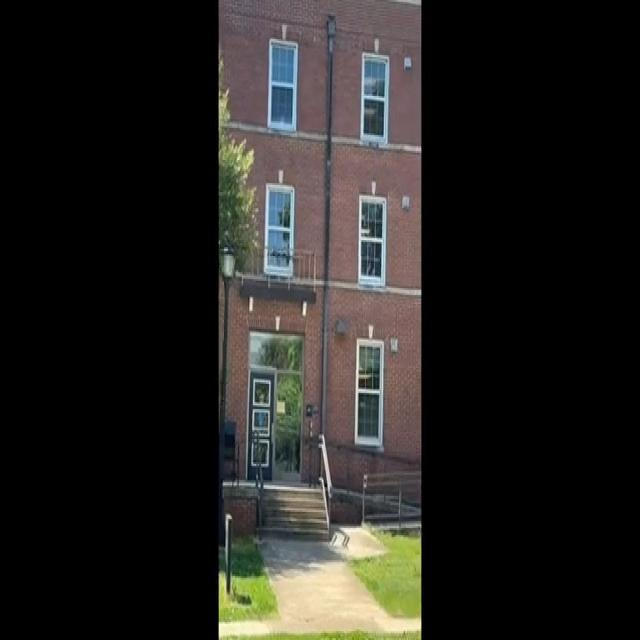drone: (265, 236, 304, 272)
